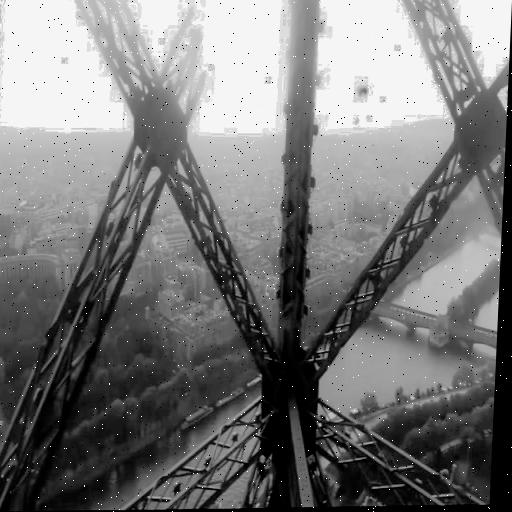balloon: (361, 84, 369, 98), (356, 86, 363, 98)
